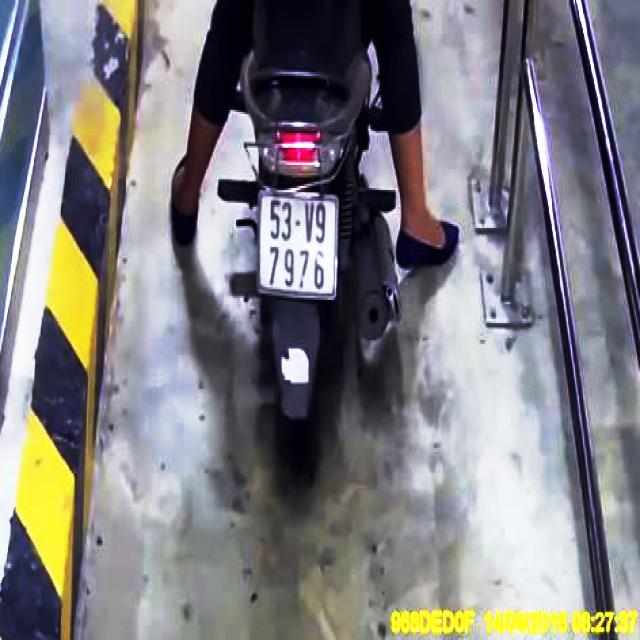license_plate: (259, 193, 339, 300)
